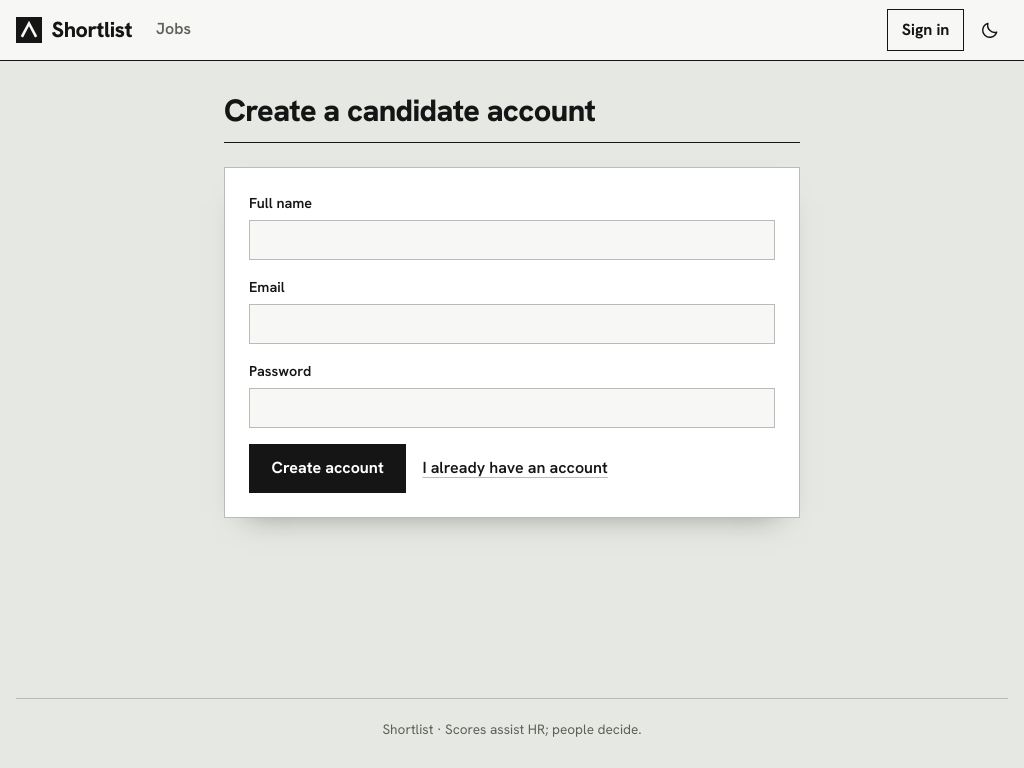
sign in and sign up › validates signup and then asks the candidate to confirm their email
Type "new@example.com" into the field labelled "Email".
click(512, 324); type("new@example.com")  # box top-left (249, 304), bottom-right (775, 344)
Type "short" into the password field labelled "Password".
click(512, 408); type("short")  # box top-left (249, 388), bottom-right (775, 428)
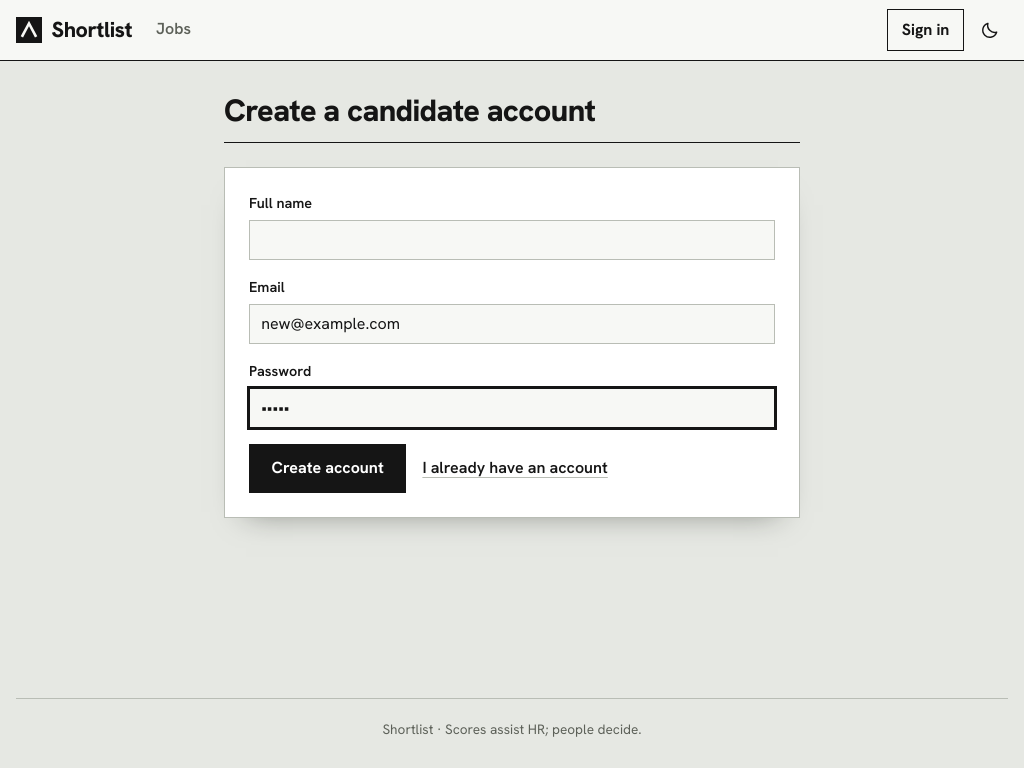
Click the button "Create account".
click(328, 468)  # box top-left (249, 444), bottom-right (406, 493)
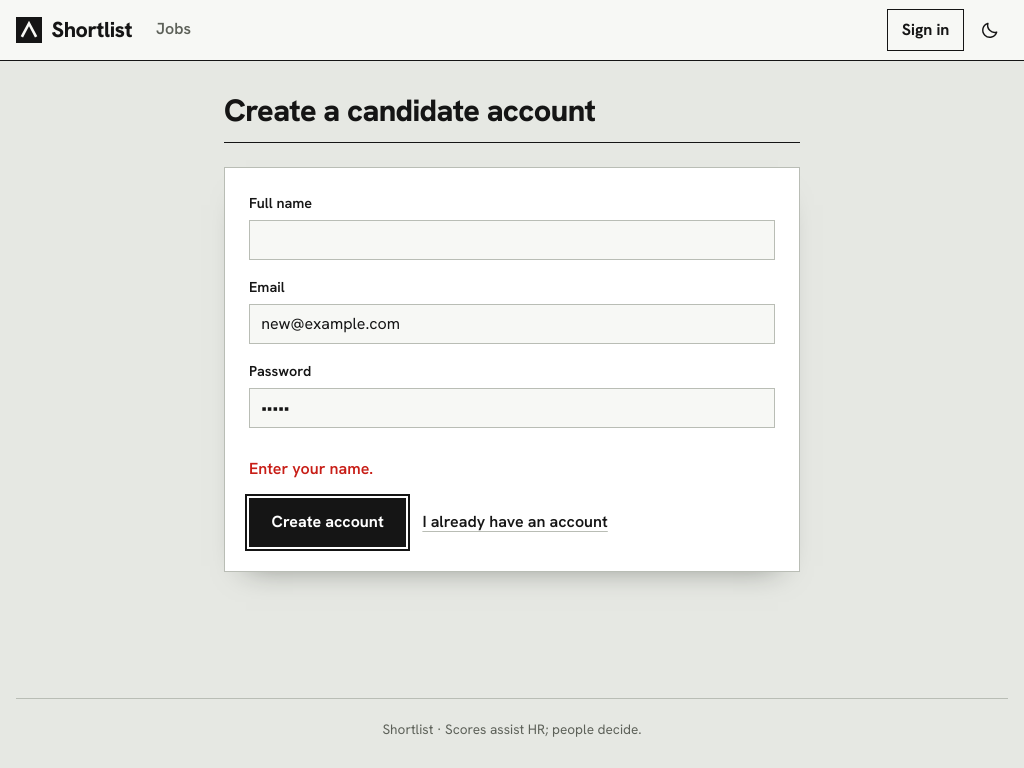
Expected: the message reads "Enter your name.", top-left (249, 458), bottom-right (373, 479)
Type "New Person" into the field labelled "Full name".
click(512, 240); type("New Person")  # box top-left (249, 220), bottom-right (775, 260)
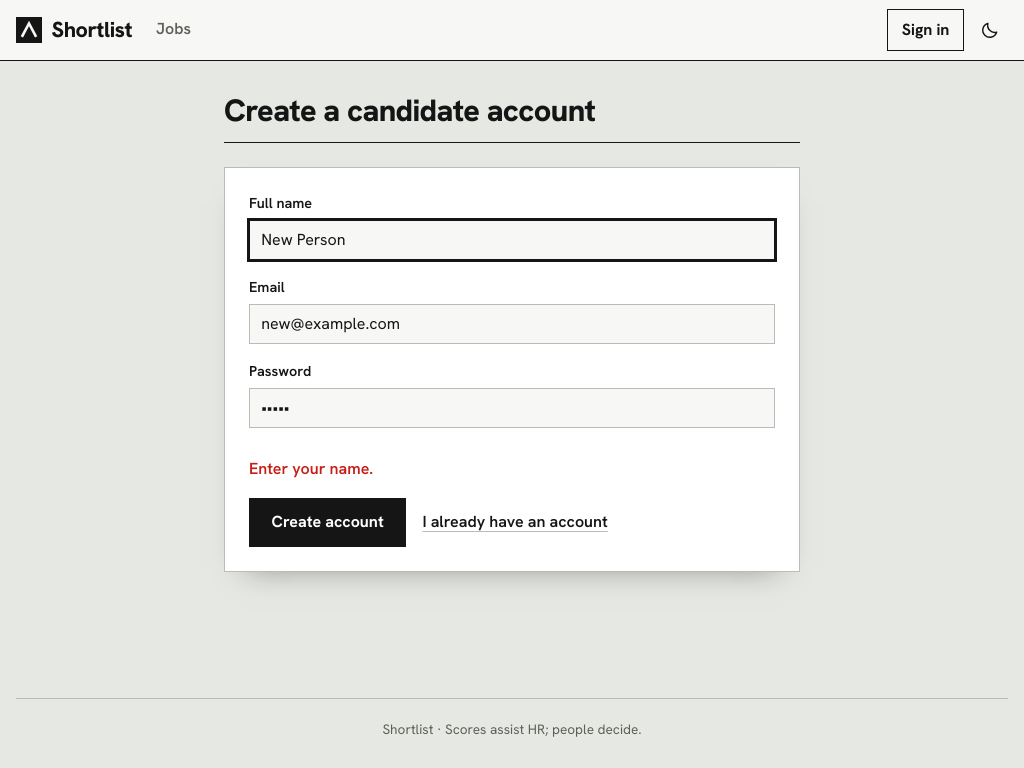
Click the button "Create account".
click(328, 523)  # box top-left (249, 498), bottom-right (406, 547)
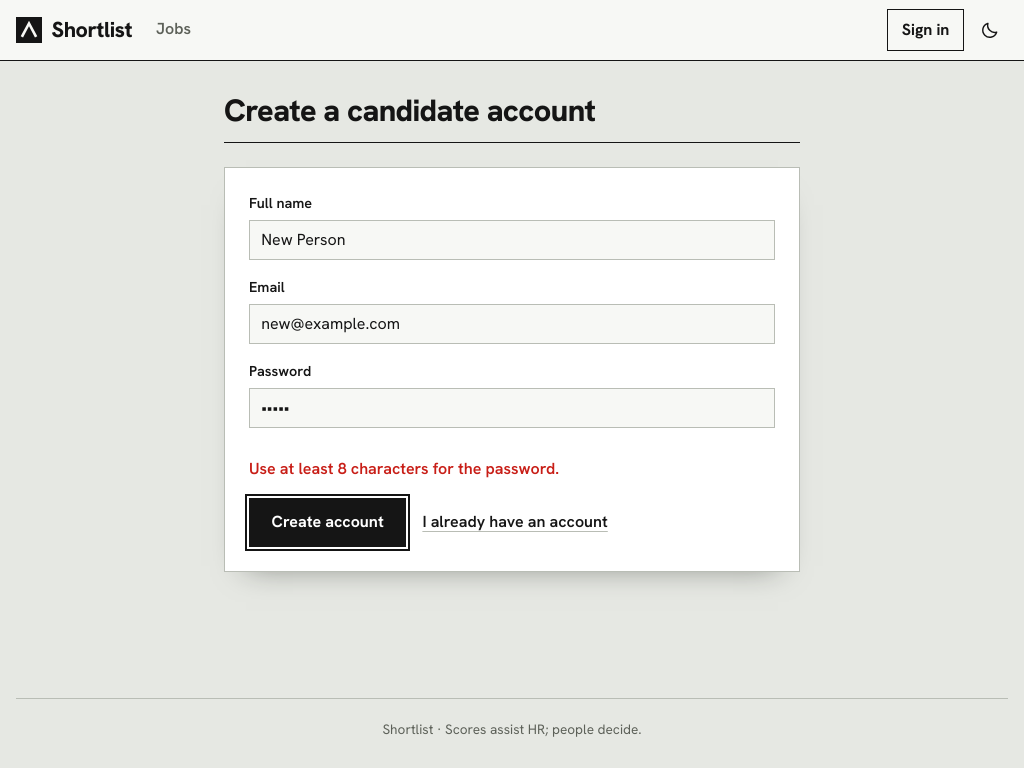
Expected: the message shows "at least 8 characters", top-left (249, 458), bottom-right (559, 479)
Type "-longer" into the password field labelled "Password".
click(512, 408); type("-longer")  # box top-left (249, 388), bottom-right (775, 428)
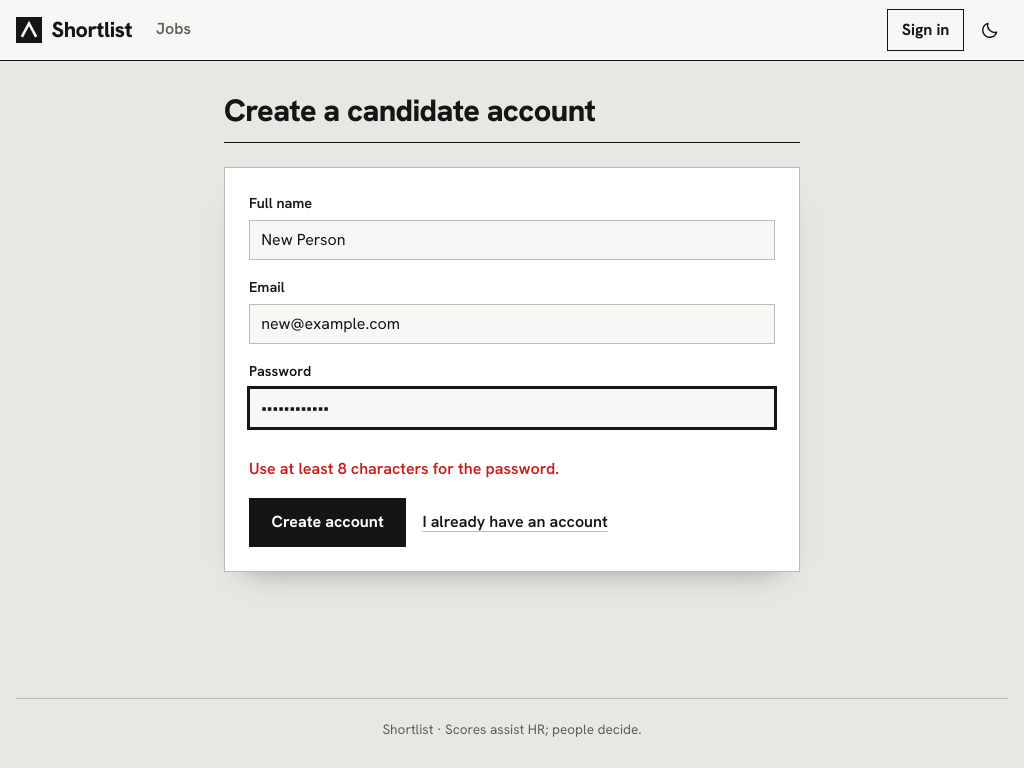
Click the button "Create account".
click(328, 523)  # box top-left (249, 498), bottom-right (406, 547)
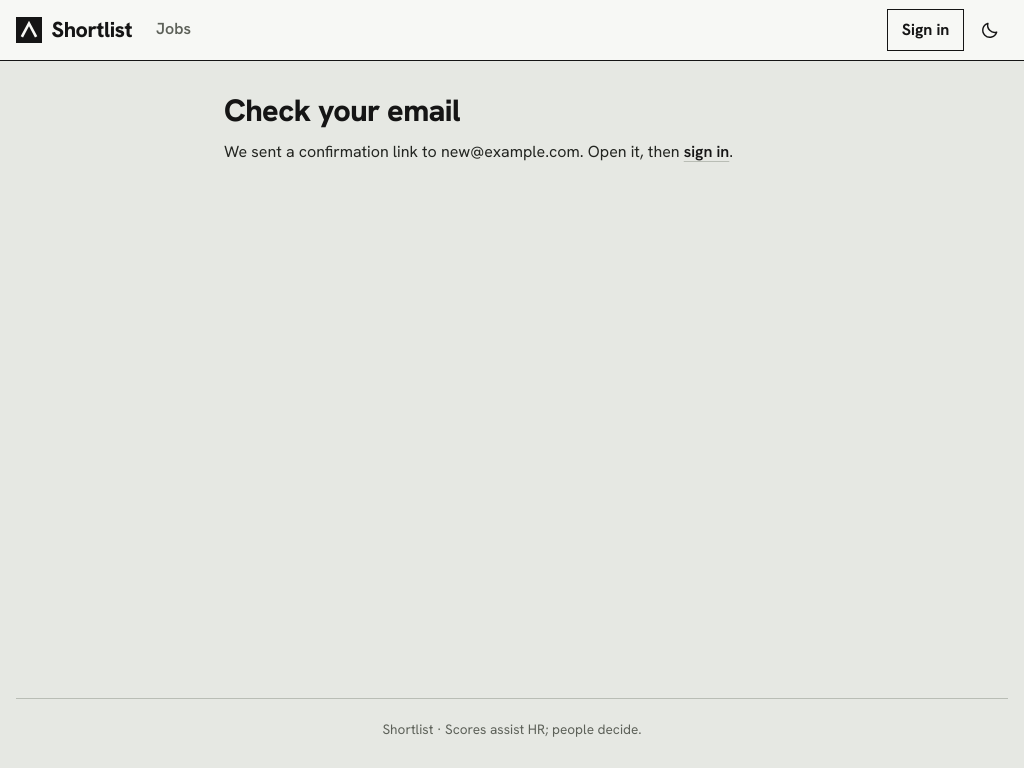
Expected: the heading "Check your email" is shown, top-left (224, 90), bottom-right (460, 130)
